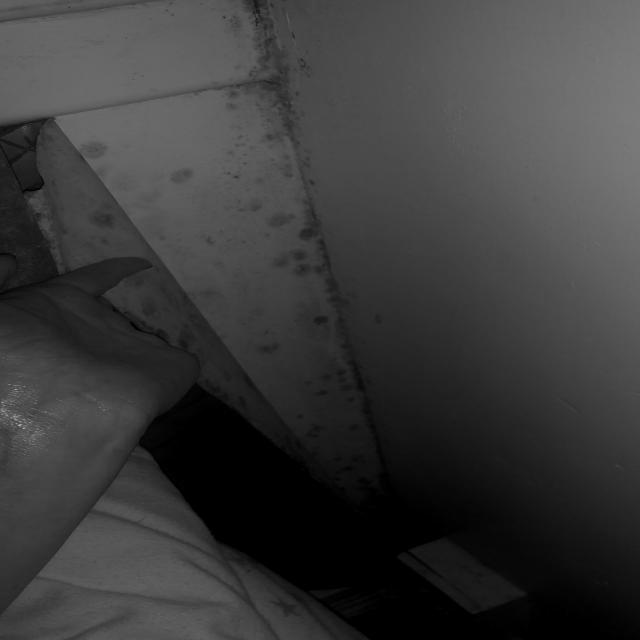stain marks: (203, 0, 412, 550), (76, 136, 222, 247)
